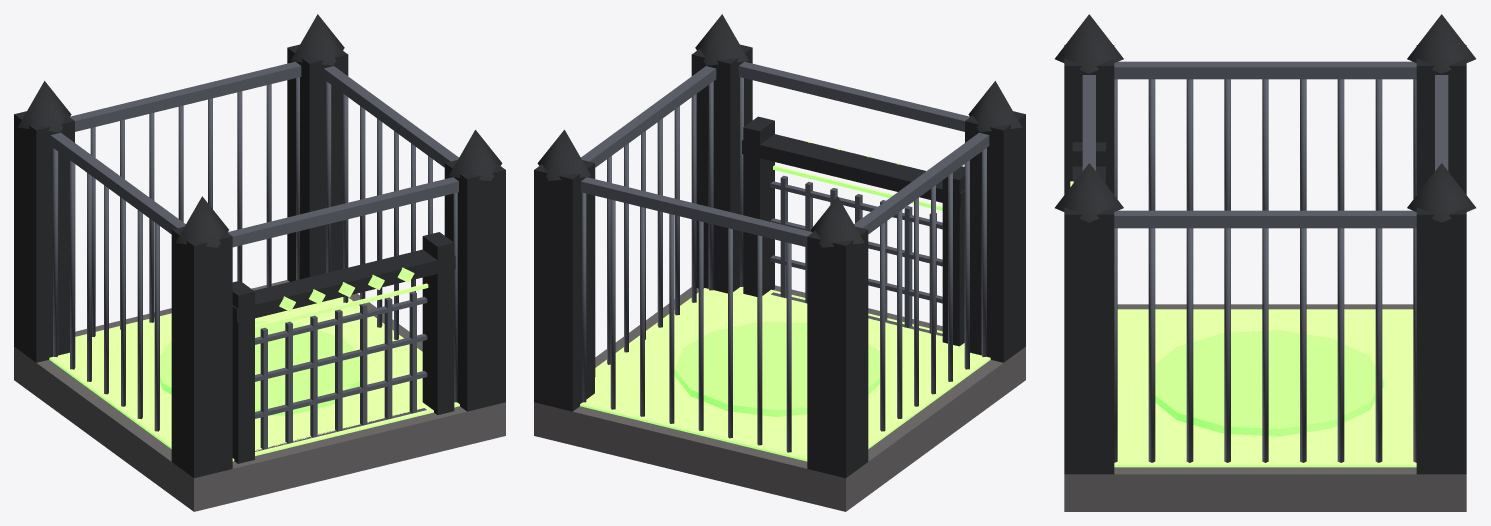
Rendered from MonsterHub_BLOOM_Pit.glb.
3 renders of one model, left to right at view 1: azimuth 30°, elevation 25°; view 2: azimuth 150°, elevation 25°; view 3: azimuth 270°, elevation 25°, orthographic. The views are drawn at different scales.
Parts seen in each view (by area): view 1: MonsterHub_BLOOM_Pit, MonsterHub_BLOOM_Pit_Gate; view 2: MonsterHub_BLOOM_Pit, MonsterHub_BLOOM_Pit_Gate; view 3: MonsterHub_BLOOM_Pit.
Part boxes in pixels (x1,y1,x2,y2): MonsterHub_BLOOM_Pit: (14, 14, 505, 511); MonsterHub_BLOOM_Pit_Gate: (255, 283, 428, 451); MonsterHub_BLOOM_Pit: (534, 14, 1025, 511); MonsterHub_BLOOM_Pit_Gate: (770, 165, 942, 336); MonsterHub_BLOOM_Pit: (1055, 14, 1475, 511).
Size of the model in its own units: 5.09 by 4.5 by 5.09.
